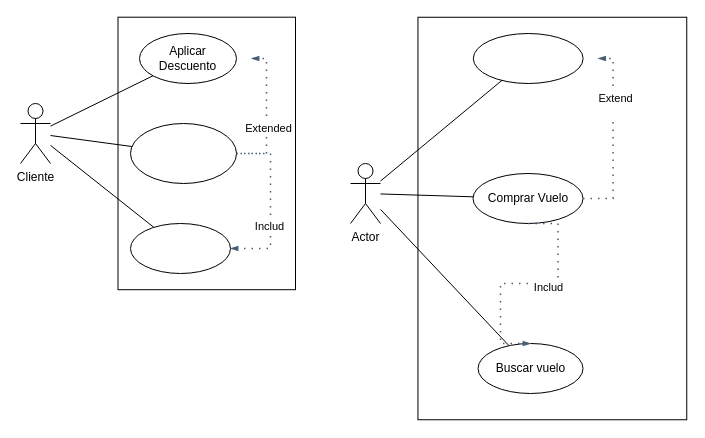
Some shapes in this 705 by 438 pixel diagram are drawn without their labels. Here are the shapes that lost their labels. From the top down, the centre of each, then its label:
(527,58): Seleccionar asientos
(183,153): Comprar producto
(180,248): Autentificar
